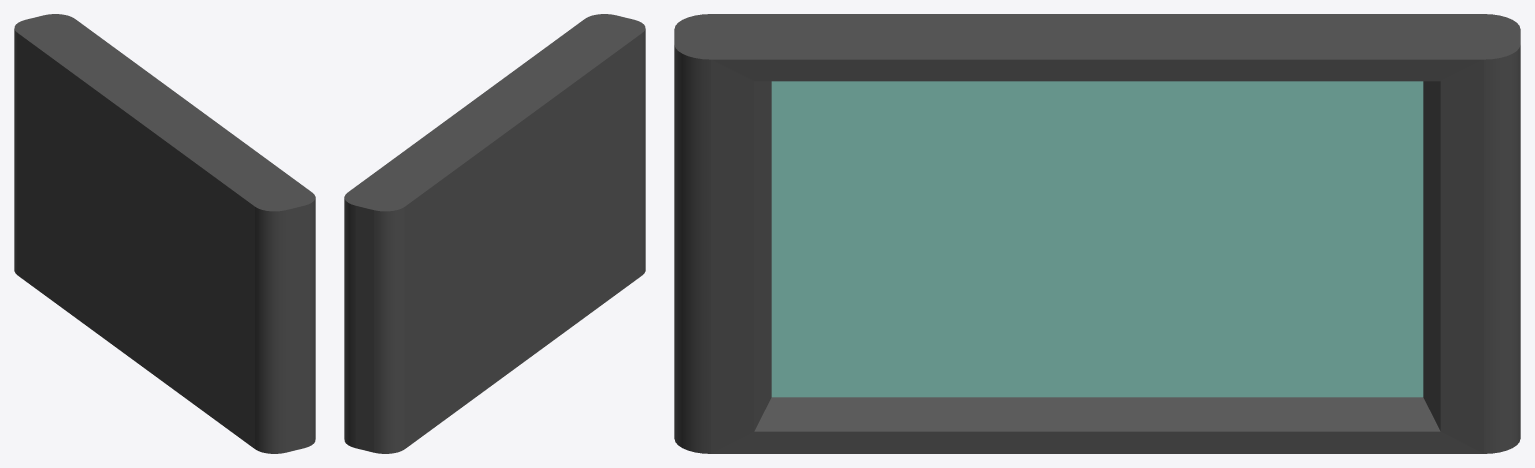
File: interact.obj
3 views of the same model, side by side, from view 1: azimuth 30°, elevation 25°; view 2: azimuth 150°, elevation 25°; view 3: azimuth 270°, elevation 25° (orthographic). The views are drawn at different scales.
Visible parts, largest first — view 1: TV; view 2: TV; view 3: TVScreen, TV.
Part boxes in pixels (left/top/right/bottom): TV: left=14, top=14, right=315, bottom=453; TV: left=344, top=14, right=645, bottom=453; TVScreen: left=771, top=81, right=1423, bottom=397; TV: left=674, top=14, right=1520, bottom=453.
Size of the model in its own units: 12.77 by 51.51 by 100.
